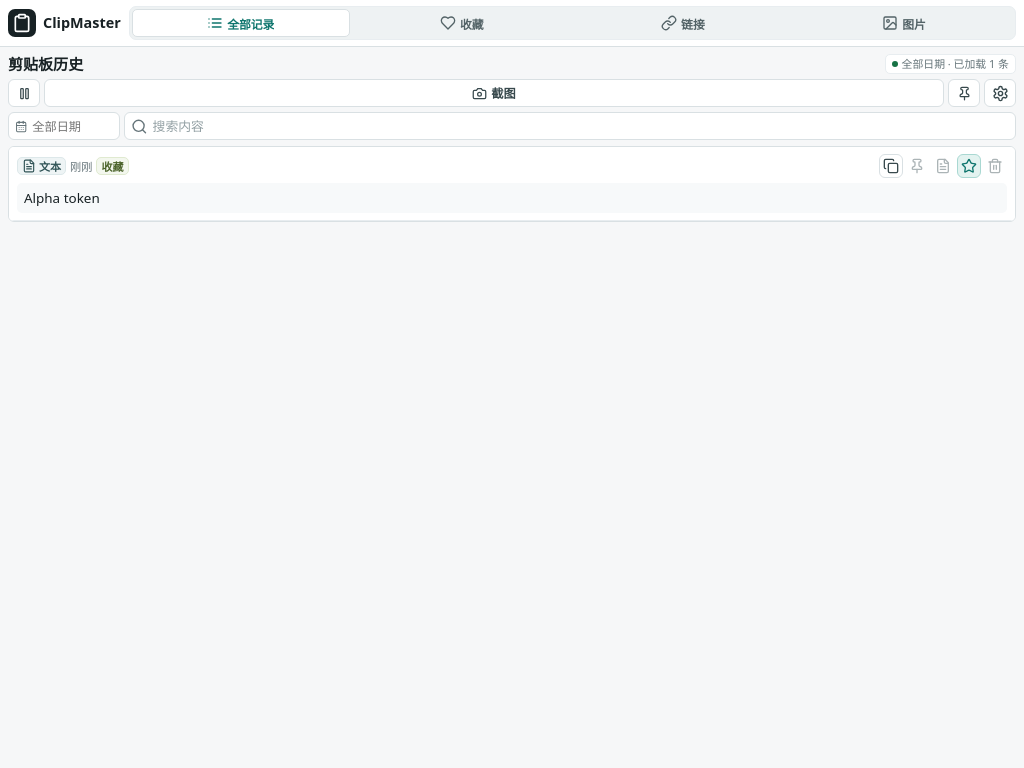
Test: App UI › cancels protected record deletion without removing the item
This screenshot has width=1024, height=768.
Expected: the button "Alpha token" is shown, [17,183,1007,213]
Click the button named "删除 Alpha token".
click(995, 166)  # box [983,154,1007,178]
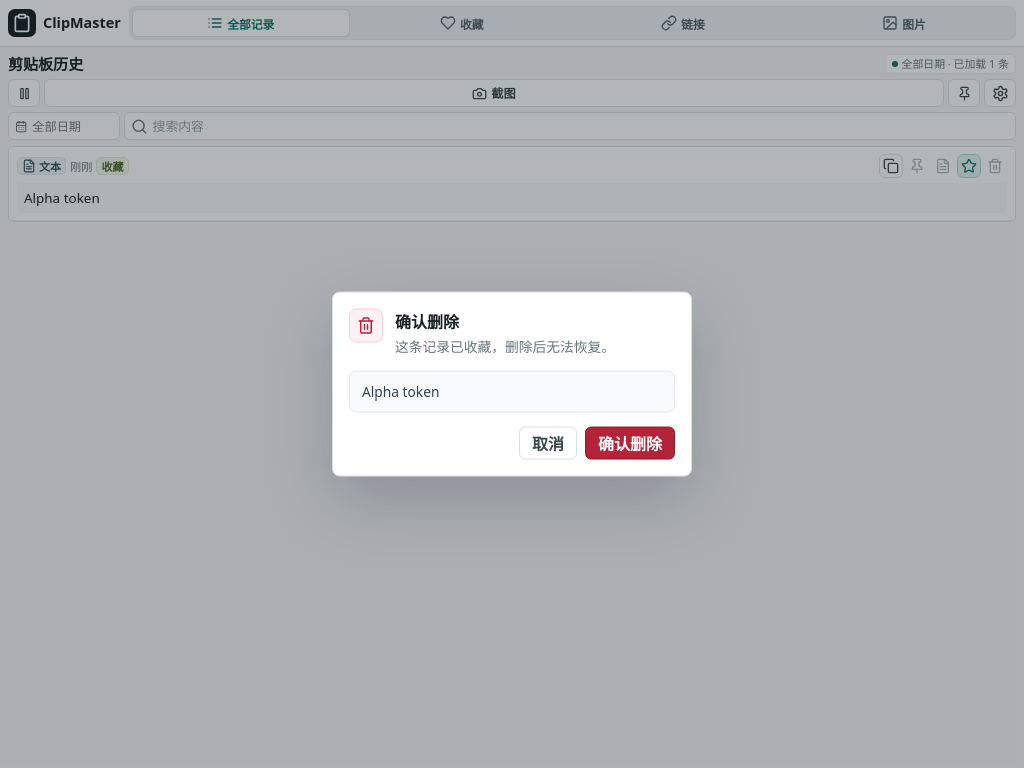
Click the button "取消".
click(548, 443)  # box [519,426,577,460]
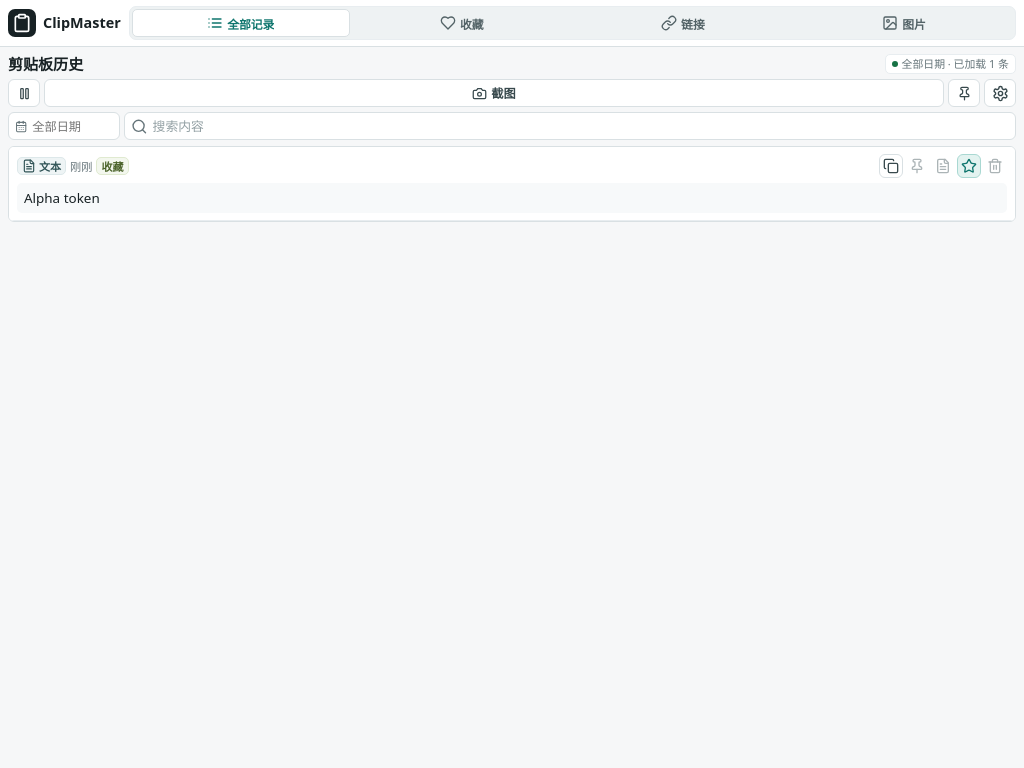
Expected: the button "Alpha token" is shown, [17,183,1007,213]
Result: the heading "确认删除" is gone
